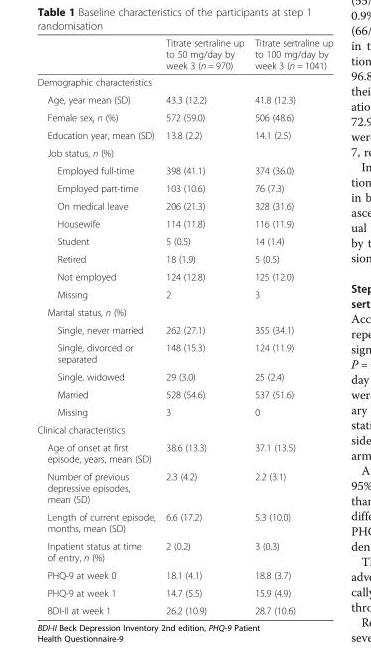table: (36, 36, 332, 615)
table column: (36, 36, 159, 615), (159, 36, 248, 615), (248, 36, 332, 615)
table column header: (36, 36, 332, 73)
table projected row header: (36, 143, 332, 161), (36, 302, 332, 320), (36, 420, 332, 438), (36, 73, 332, 90)
table row: (36, 467, 332, 507), (36, 36, 332, 73), (36, 338, 332, 367), (36, 438, 332, 467), (36, 507, 332, 536), (36, 536, 332, 565), (36, 90, 332, 108), (36, 125, 332, 143), (36, 143, 332, 161), (36, 161, 332, 179), (36, 196, 332, 214), (36, 214, 332, 232), (36, 249, 332, 267), (36, 267, 332, 285), (36, 302, 332, 320), (36, 320, 332, 338), (36, 367, 332, 385), (36, 402, 332, 420), (36, 420, 332, 438), (36, 565, 332, 583), (36, 583, 332, 601), (36, 73, 332, 90), (36, 108, 332, 125), (36, 179, 332, 196), (36, 232, 332, 249), (36, 285, 332, 302), (36, 385, 332, 402), (36, 601, 332, 615)
